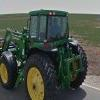Tractor: (9, 9, 88, 98)
